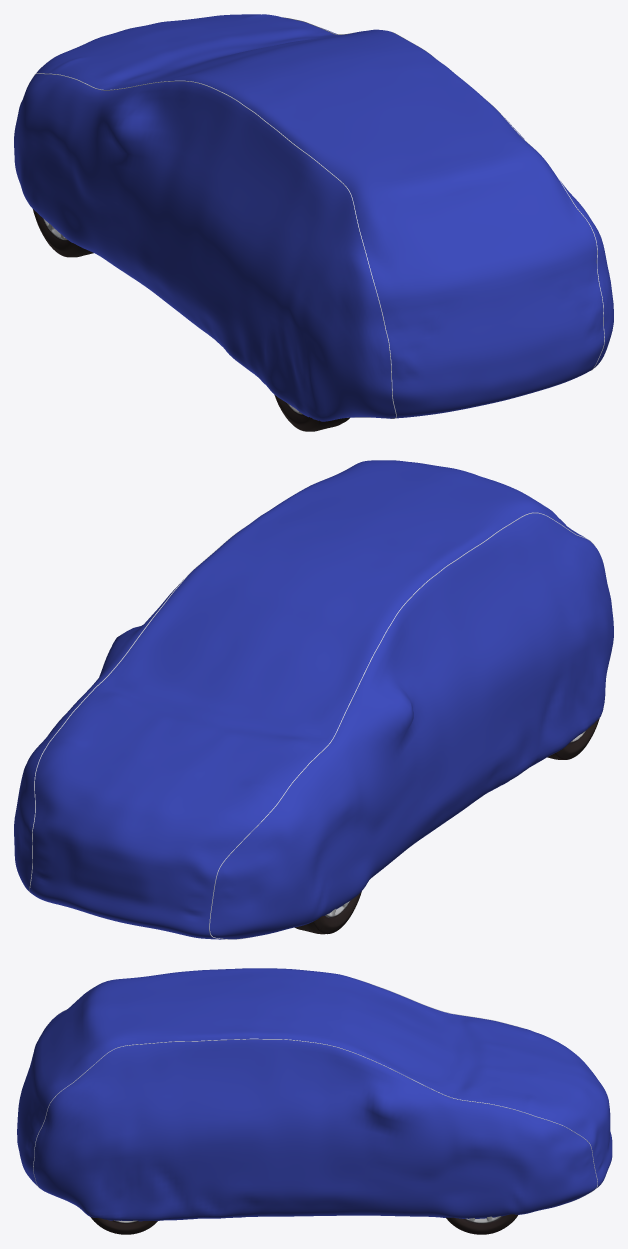
Rendered from hatch.glb.
3 views of the same model, one above another, from view 1: azimuth 30°, elevation 25°; view 2: azimuth 150°, elevation 25°; view 3: azimuth 270°, elevation 25° (orthographic). The views are drawn at different scales.
Parts seen in each view (by area): view 1: CAPA, texture_pbr_v128, LINHA; view 2: CAPA, texture_pbr_v128, LINHA; view 3: CAPA, texture_pbr_v128, LINHA.
Boxes of the visible parts, box(x1,y1,x2,y2) form: CAPA: box(14, 14, 613, 421); texture_pbr_v128: box(33, 209, 349, 431); LINHA: box(34, 17, 604, 418); CAPA: box(14, 460, 613, 939); texture_pbr_v128: box(295, 718, 599, 934); LINHA: box(29, 469, 594, 939); CAPA: box(17, 968, 612, 1221); texture_pbr_v128: box(90, 1214, 517, 1234); LINHA: box(33, 978, 597, 1201).
Bounding box in the file's own units: 3.27 × 2.66 × 7.71.
4 materials, 2 textured.
